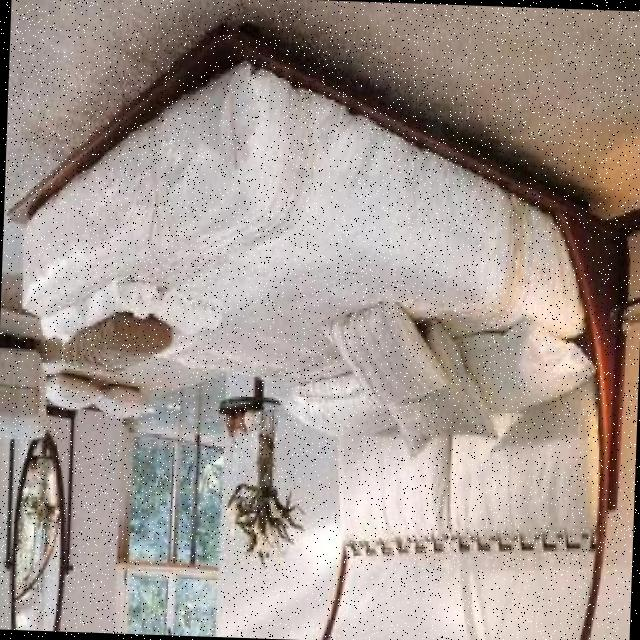Bed: (2, 14, 640, 586)
